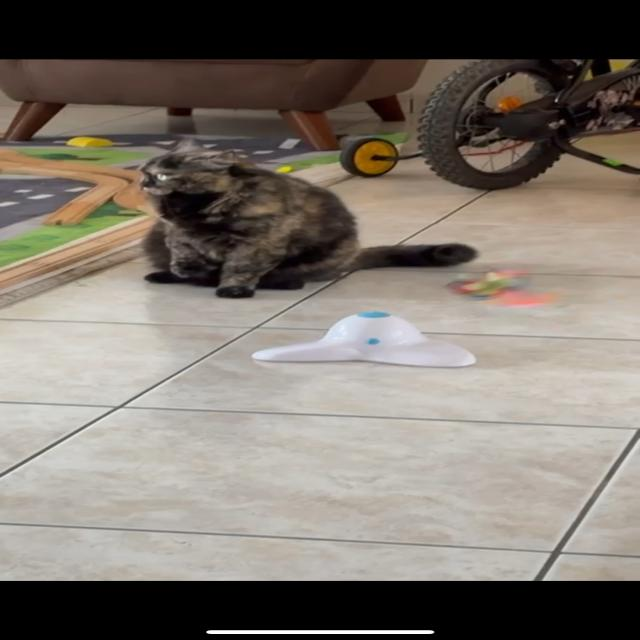authorized: (135, 136, 478, 298)
